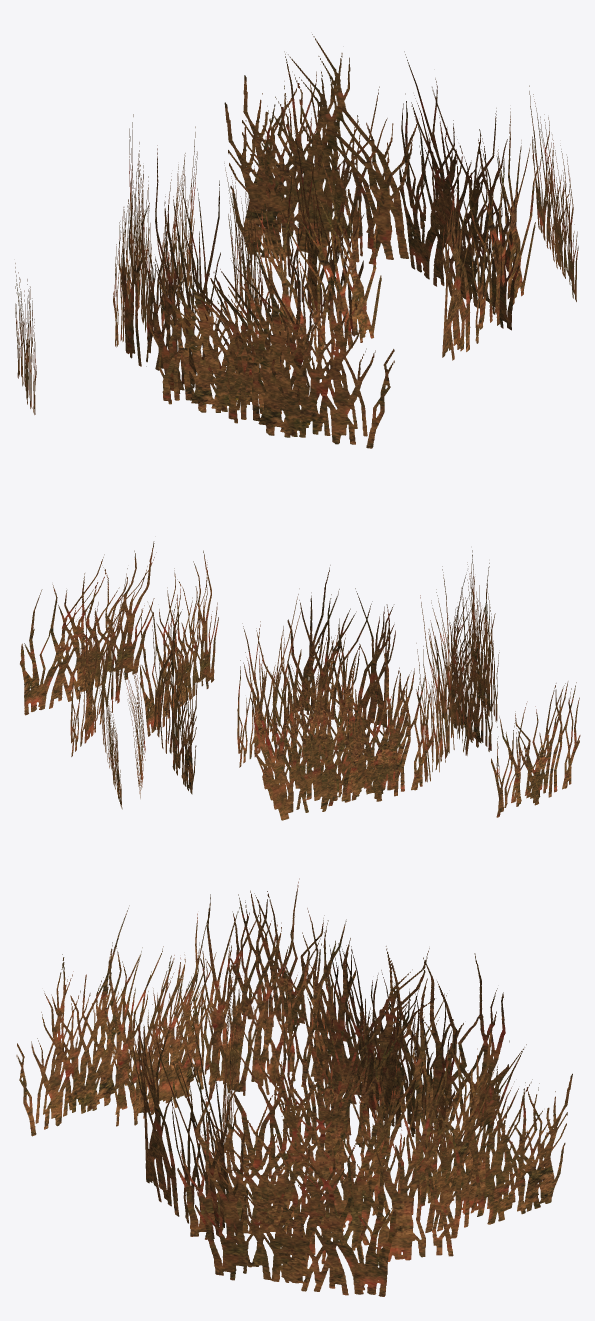
Rendered from grass_3d_01_copper.glb.
3 views of the same model, one above another, from view 1: azimuth 30°, elevation 25°; view 2: azimuth 150°, elevation 25°; view 3: azimuth 270°, elevation 25° (orthographic). The views are drawn at different scales.
Parts seen in each view (by area): view 1: grass_cards; view 2: grass_cards; view 3: grass_cards.
Part boxes in pixels (left/top/right/bottom): grass_cards: left=15, top=34, right=578, bottom=448; grass_cards: left=20, top=541, right=580, bottom=820; grass_cards: left=16, top=878, right=572, bottom=1296.
Bounding box in the file's own units: 1.1 × 0.4321 × 0.9366.
Materials: 1 (1 with a texture image).
